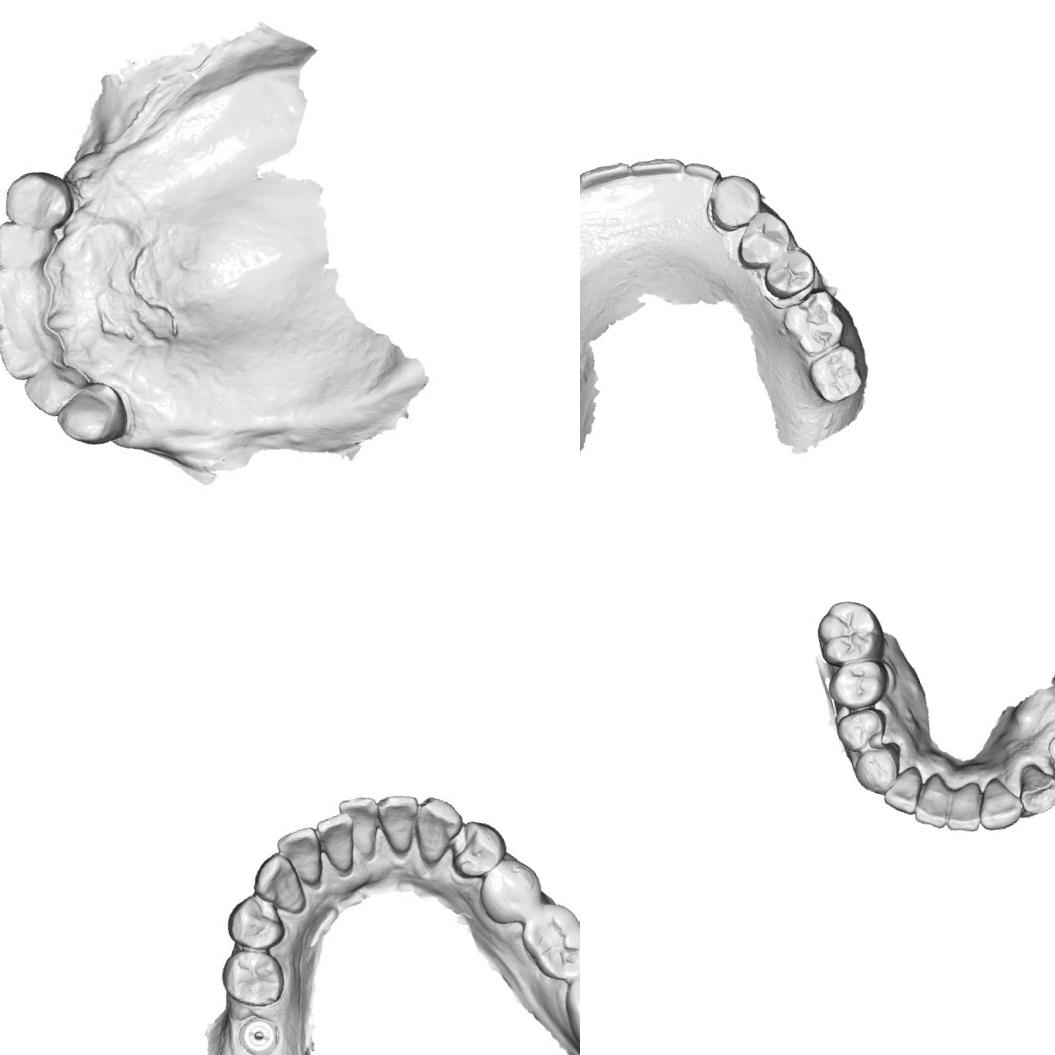canine: (50, 376, 131, 455), (0, 160, 79, 237), (407, 788, 468, 866), (246, 849, 306, 923), (702, 168, 769, 234), (848, 738, 909, 800), (1012, 757, 1055, 817)
implant_minus: (236, 1010, 286, 1055), (1044, 728, 1055, 766)
incisor: (0, 253, 60, 331), (0, 313, 65, 383), (18, 358, 90, 421), (333, 788, 391, 866), (0, 209, 61, 274), (312, 810, 365, 882), (276, 824, 330, 893), (372, 788, 425, 858), (969, 770, 1026, 834), (904, 770, 958, 834), (937, 779, 990, 837), (876, 764, 929, 820), (628, 148, 688, 194), (580, 155, 634, 200), (679, 154, 725, 199)
molar: (512, 895, 580, 986), (775, 282, 850, 360), (809, 601, 889, 672), (801, 341, 866, 409), (554, 952, 580, 1055)
premolar: (470, 848, 545, 930), (214, 940, 288, 1016), (442, 812, 512, 888), (218, 889, 290, 958), (727, 204, 797, 274), (821, 652, 894, 714), (756, 242, 822, 304), (832, 702, 892, 754)
